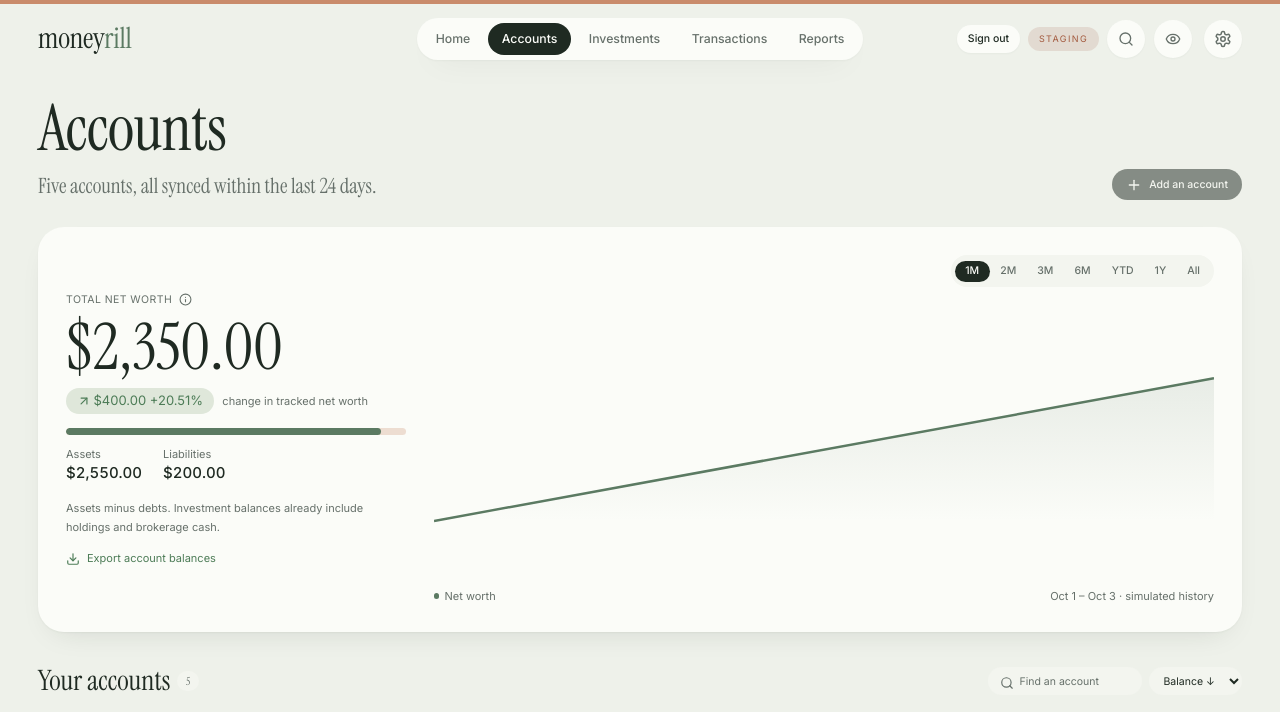
Test: Transactions tab › hides amounts in private mode
This screenshot has width=1280, height=712.
Expected: the text "TOTAL NET WORTH" is shown, [66,293,192,306]
Click the link "Transactions".
click(730, 38)  # box [692,31,767,46]
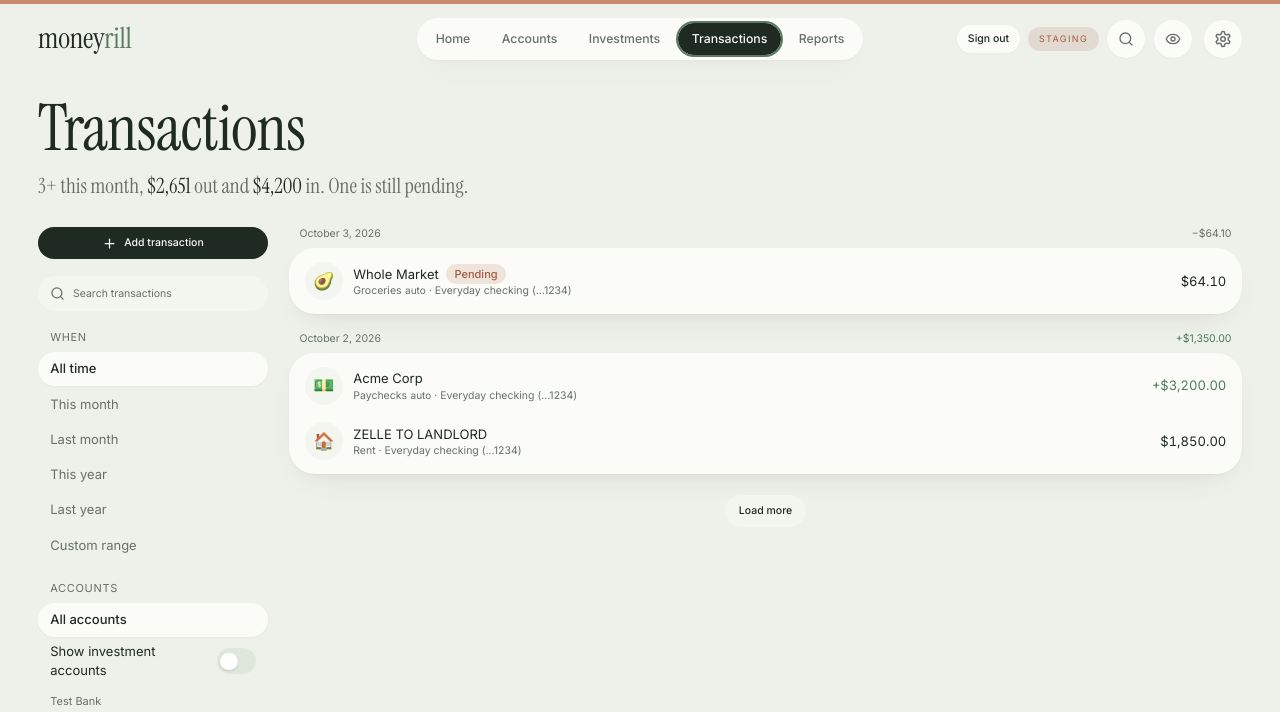
Now the text "Whole Market" is shown, box [353,264,439,284]
Click the button named "Private mode".
click(1173, 39)  # box [1154,20,1192,58]
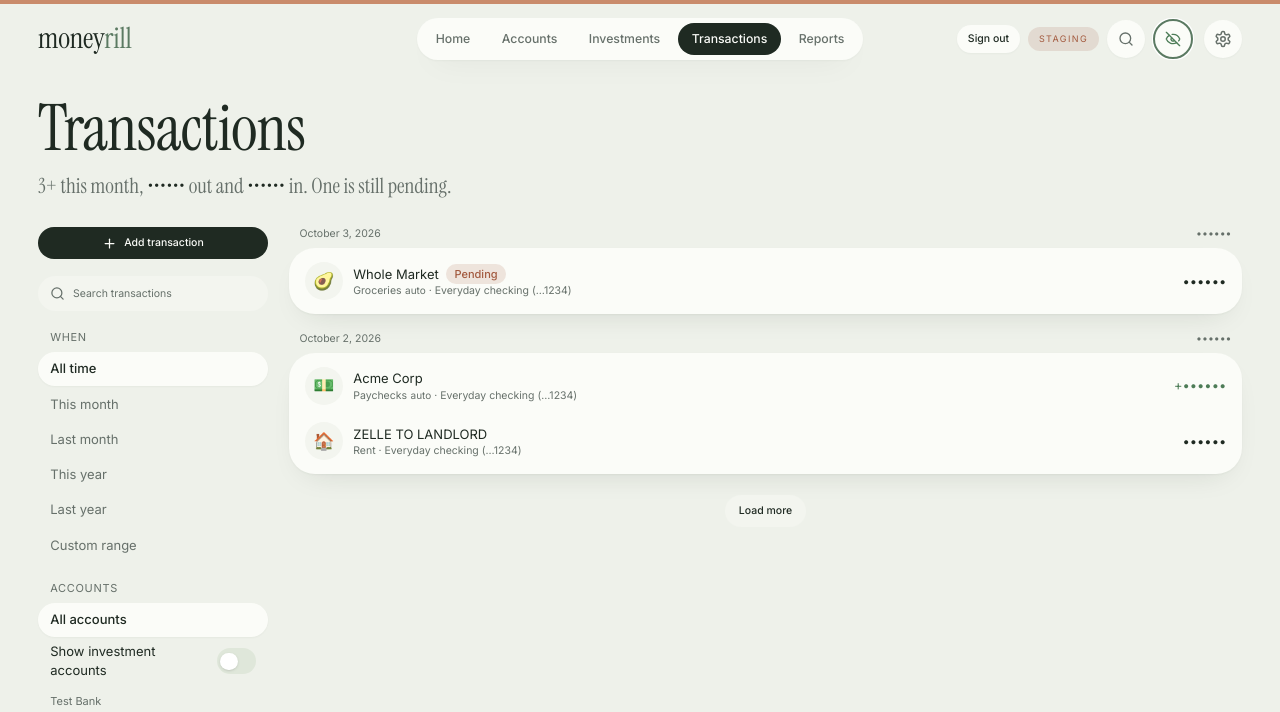
Now the text "••••••" is shown 5 times, box [1196,227,1232,241]; [1182,272,1226,288]; [1196,332,1232,346]; [1174,377,1226,393]; [1182,432,1226,448]
